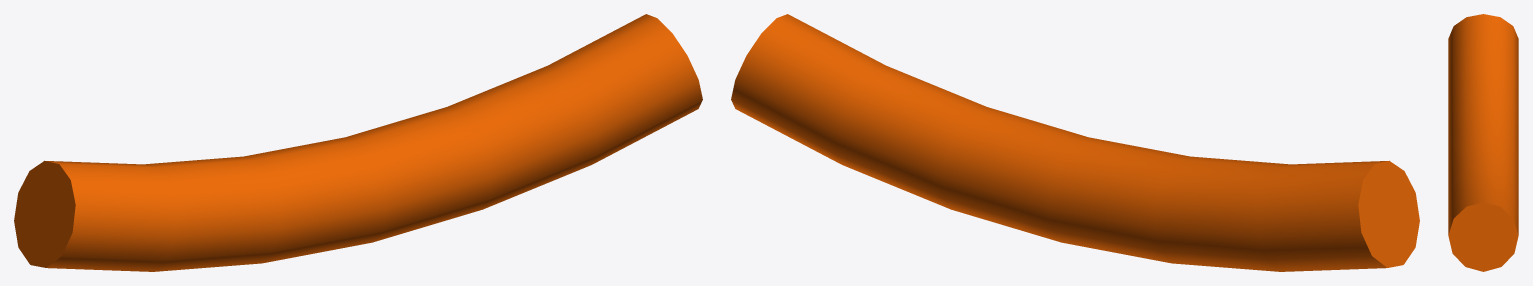
Rendered from RingElement.fbx.
The picture shows the model from 3 angles, left to right: view 1: azimuth 30°, elevation 25°; view 2: azimuth 150°, elevation 25°; view 3: azimuth 270°, elevation 25°; orthographic projection. The views are drawn at different scales.
Parts seen in each view (by area): view 1: Torus.001; view 2: Torus.001; view 3: Torus.001.
Part boxes in pixels (bbox=[...]): Torus.001: bbox=[14, 14, 702, 271]; Torus.001: bbox=[731, 14, 1419, 271]; Torus.001: bbox=[1448, 14, 1518, 271].
Size of the model in its own units: 64.67 by 13.95 by 9.29.
